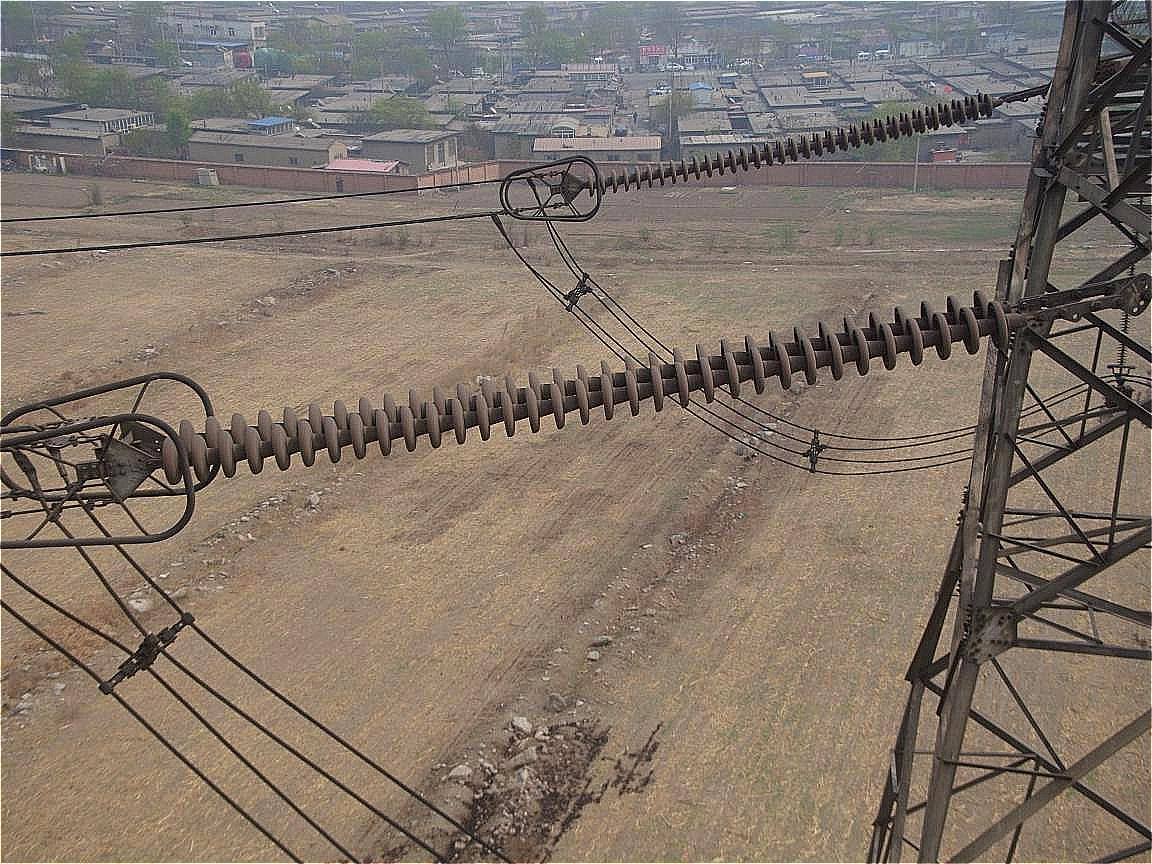insultor1: (147, 279, 1038, 508), (573, 87, 1016, 212)
